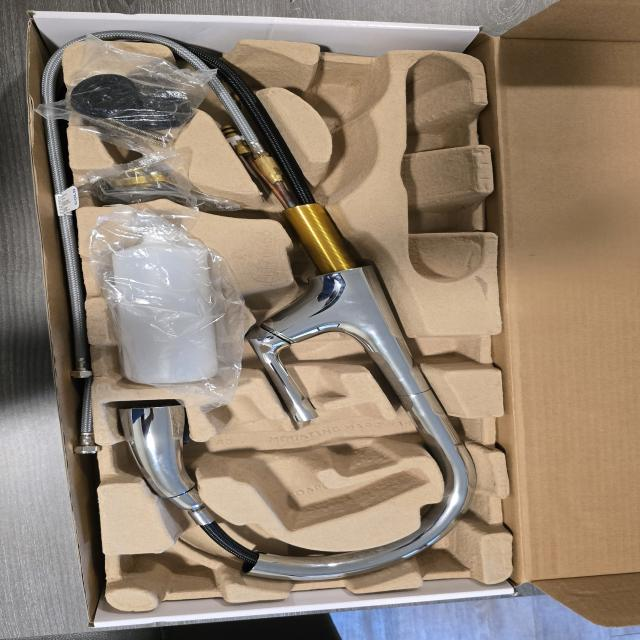1: (119, 44, 476, 582)
2m: (204, 398, 429, 530)
3: (108, 215, 223, 382)
4m: (399, 55, 484, 282)
5m: (305, 66, 383, 120)
6: (72, 144, 239, 214)
7: (35, 32, 222, 158)
